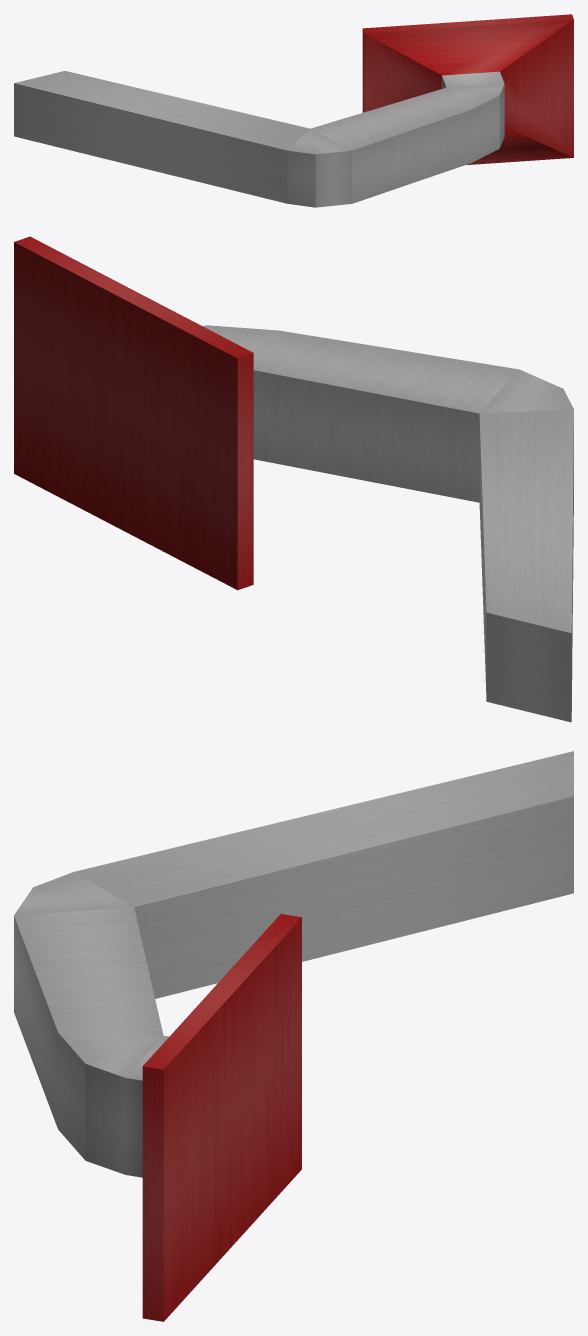
The model's file is grijper.obj.
The picture shows the model from 3 angles, top to bottom: view 1: azimuth 30°, elevation 25°; view 2: azimuth 150°, elevation 25°; view 3: azimuth 270°, elevation 25°; orthographic projection. The views are drawn at different scales.
Visible parts, largest first — view 1: grijper; view 2: grijper; view 3: grijper.
Part boxes in pixels (box(x1,y1,x2,y2)): grijper: box(14, 14, 573, 207); grijper: box(14, 236, 573, 722); grijper: box(14, 751, 573, 1321).
Size of the model in its own units: 1.31 by 0.3899 by 0.7846.
Materials: 1 (1 with a texture image).
